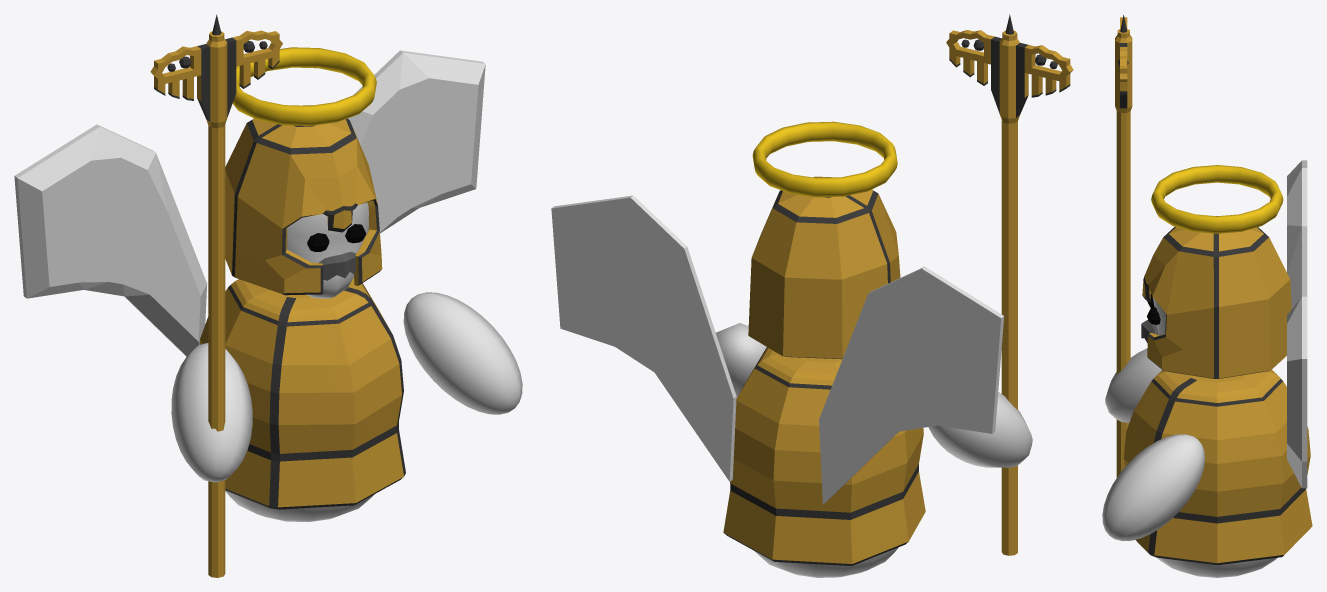
The model's file is enemy_1.fbx.
The picture shows the model from 3 angles, left to right: view 1: azimuth 30°, elevation 25°; view 2: azimuth 150°, elevation 25°; view 3: azimuth 270°, elevation 25°; orthographic projection. The views are drawn at different scales.
Parts seen in each view (by area): view 1: angel, chestplate, helmet, staff, moustache, Sphere; view 2: angel, chestplate, helmet, staff; view 3: chestplate, angel, helmet, staff.
Part boxes in pixels (x1=…): angel: x1=14, y1=47, x2=522, y2=521; chestplate: x1=199, y1=277, x2=405, y2=509; helmet: x1=225, y1=105, x2=382, y2=295; staff: x1=150, y1=14, x2=282, y2=577; moustache: x1=318, y1=252, x2=355, y2=280; Sphere: x1=307, y1=224, x2=366, y2=251; angel: x1=551, y1=121, x2=1032, y2=577; chestplate: x1=723, y1=347, x2=925, y2=565; helmet: x1=748, y1=176, x2=900, y2=359; staff: x1=946, y1=14, x2=1073, y2=555; chestplate: x1=1123, y1=370, x2=1312, y2=565; angel: x1=1102, y1=160, x2=1307, y2=577; helmet: x1=1142, y1=216, x2=1291, y2=378; staff: x1=1115, y1=15, x2=1132, y2=477.
Bounding box in the file's own units: 579 × 662 × 259.
